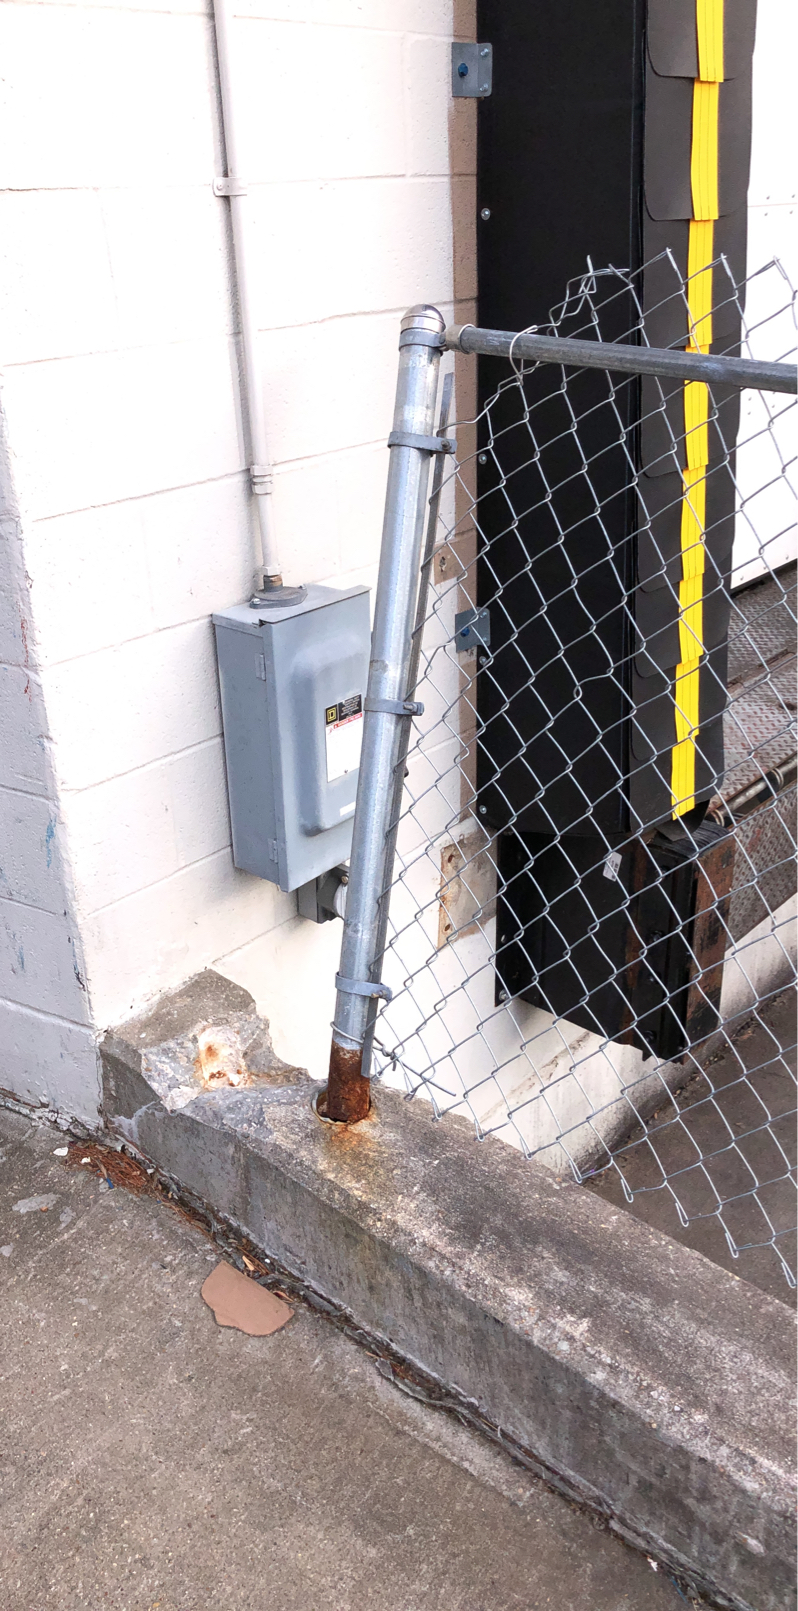rust: (321, 1053, 378, 1126)
